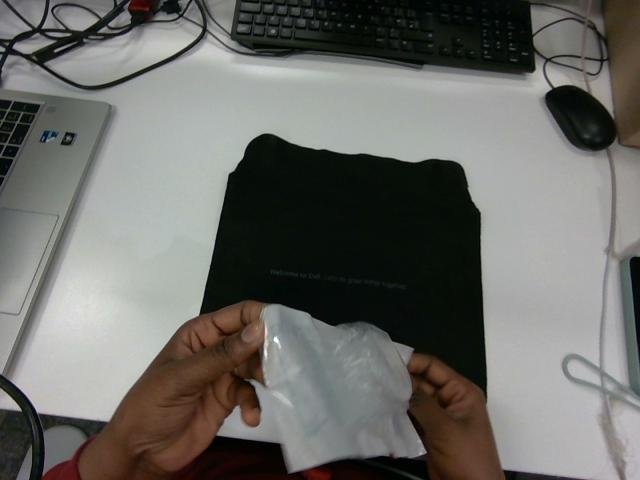gallipot: (262, 304, 424, 471)
